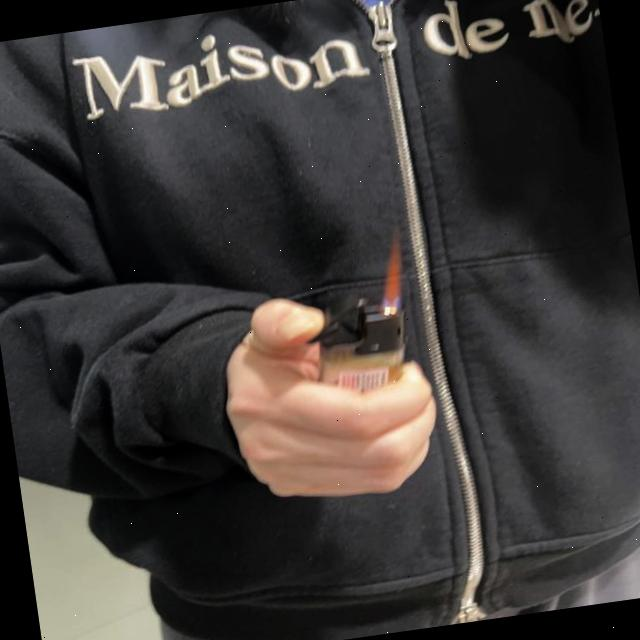fire: (375, 238, 411, 312)
